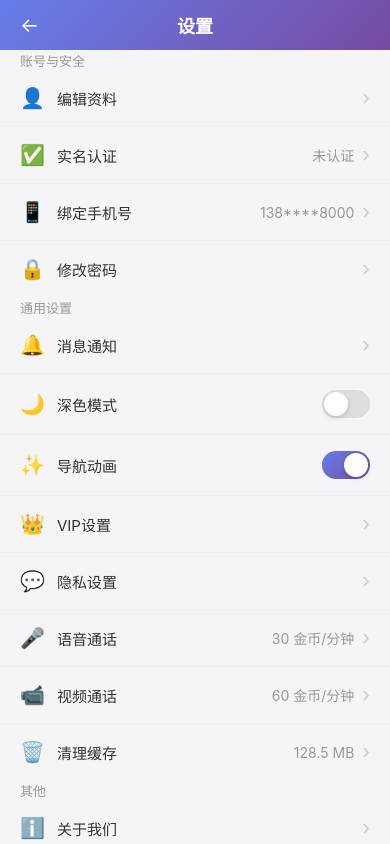
Settings 更换手机号（P1-8） › 弹窗展示服务端返回的当前脱敏号
This screenshot has width=390, height=844.
Click the element with class "menu-item" showing "📱 绑定手机号 138****8000 ›".
click(195, 212)  # box [0,184,389,241]
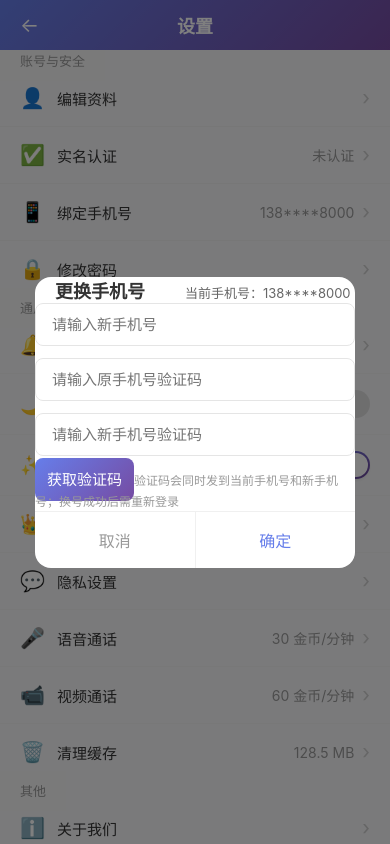
Check: the text "绑定手机号" is shown, box [57,204,132,222]
Check: the text with class "modal-tip" shows "138****8000", box [185,284,351,300]
